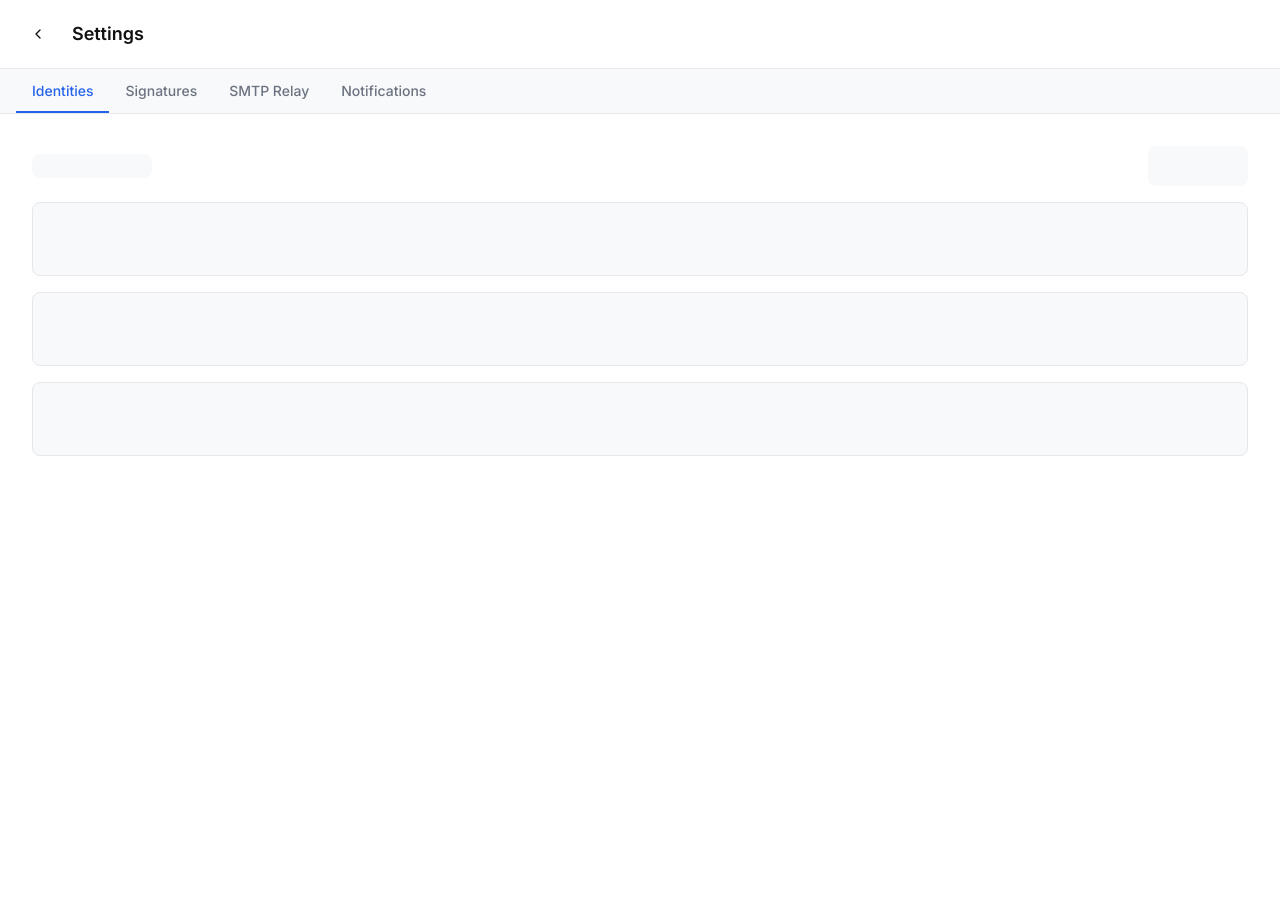
Scenario: Settings › signatures tab › delete button opens confirmation dialog
Click the tab "Signatures": [161, 91] box [110,69,213,113]
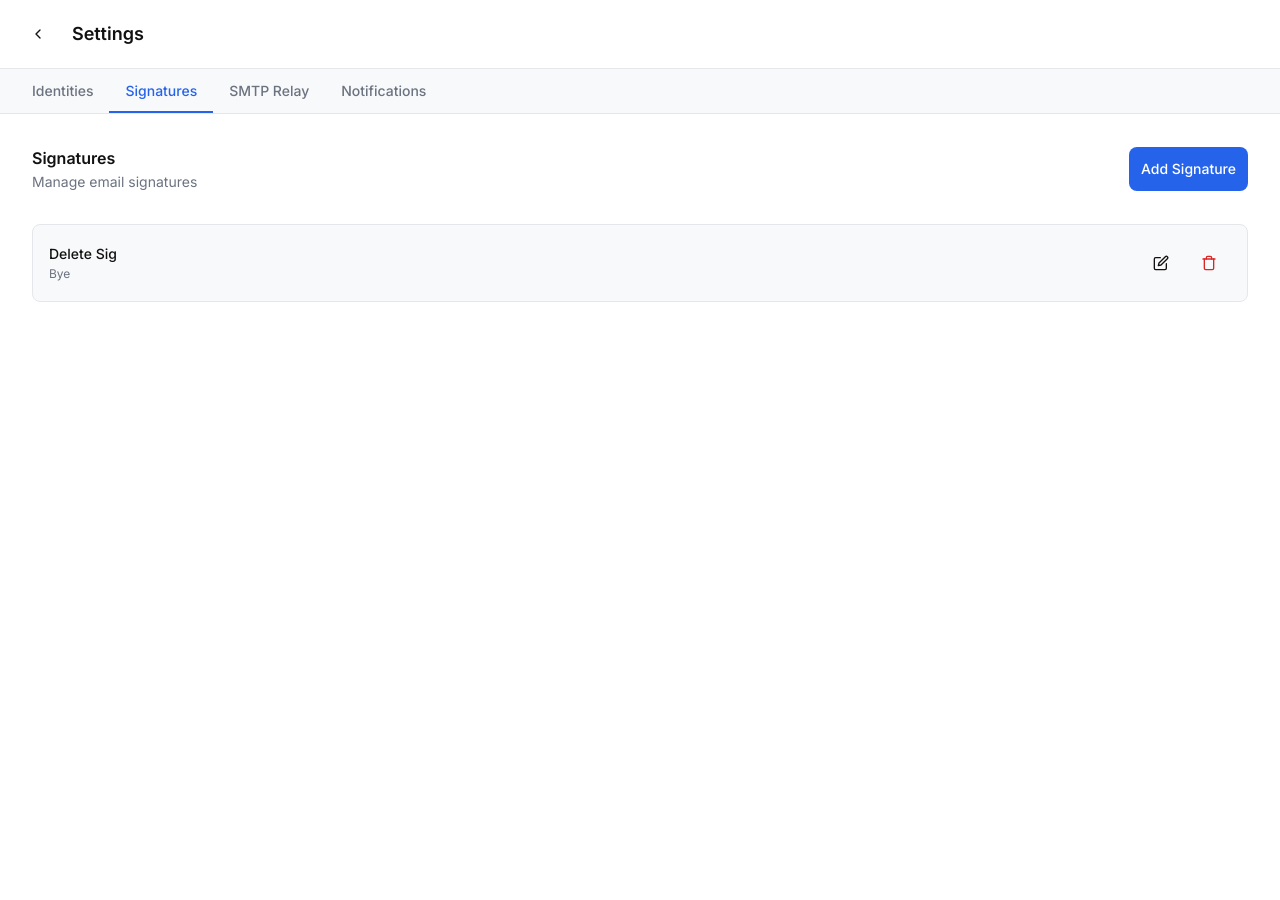
Now the text "Delete Sig" is shown, box [49,244,117,264]
Click the button named "Delete Delete Sig": [1209, 263] box [1187,241,1231,285]
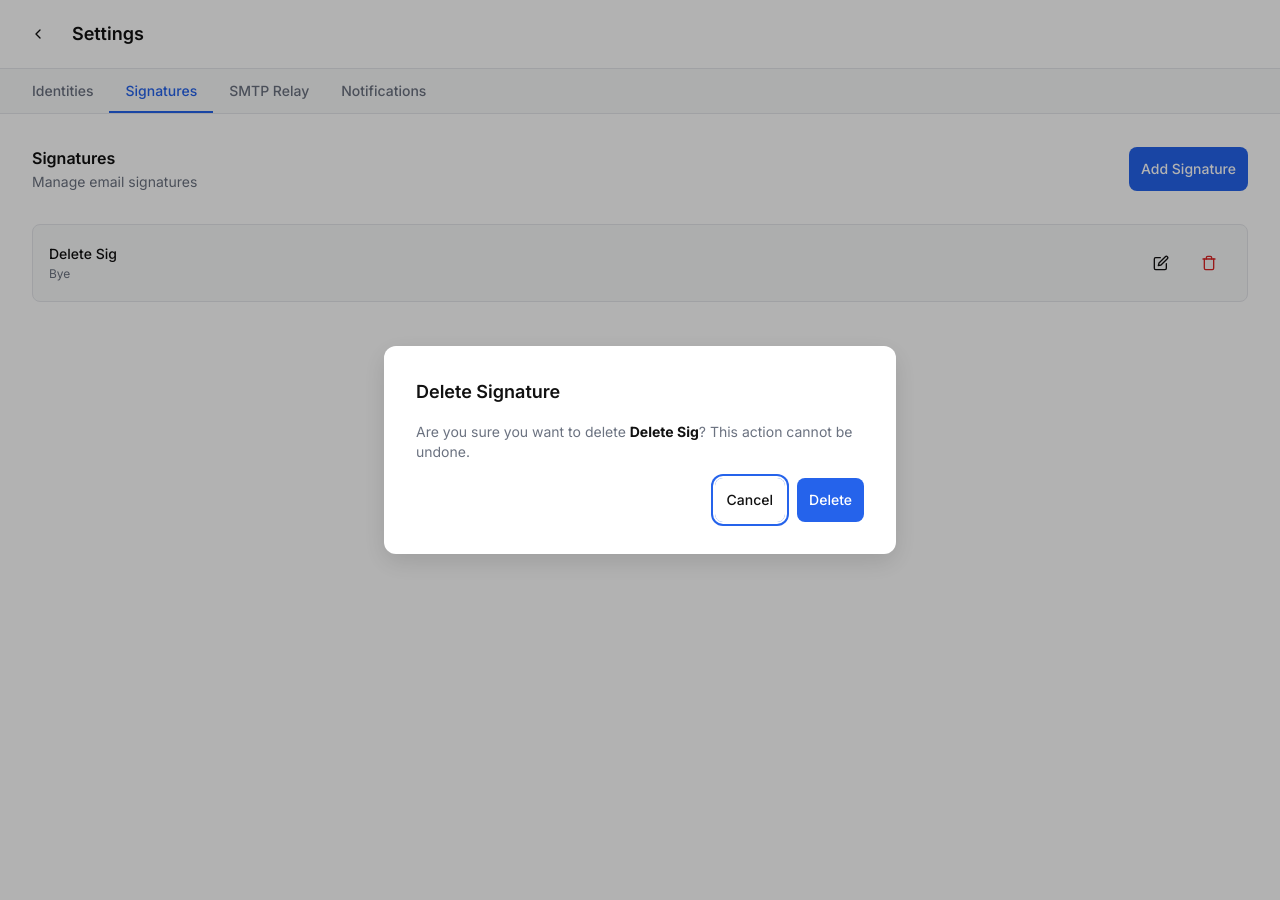
Now the heading "Delete Signature" is shown, box [416,381,560,402]
Now the text "Are you sure you want to delete" is shown, box [416,423,630,440]
